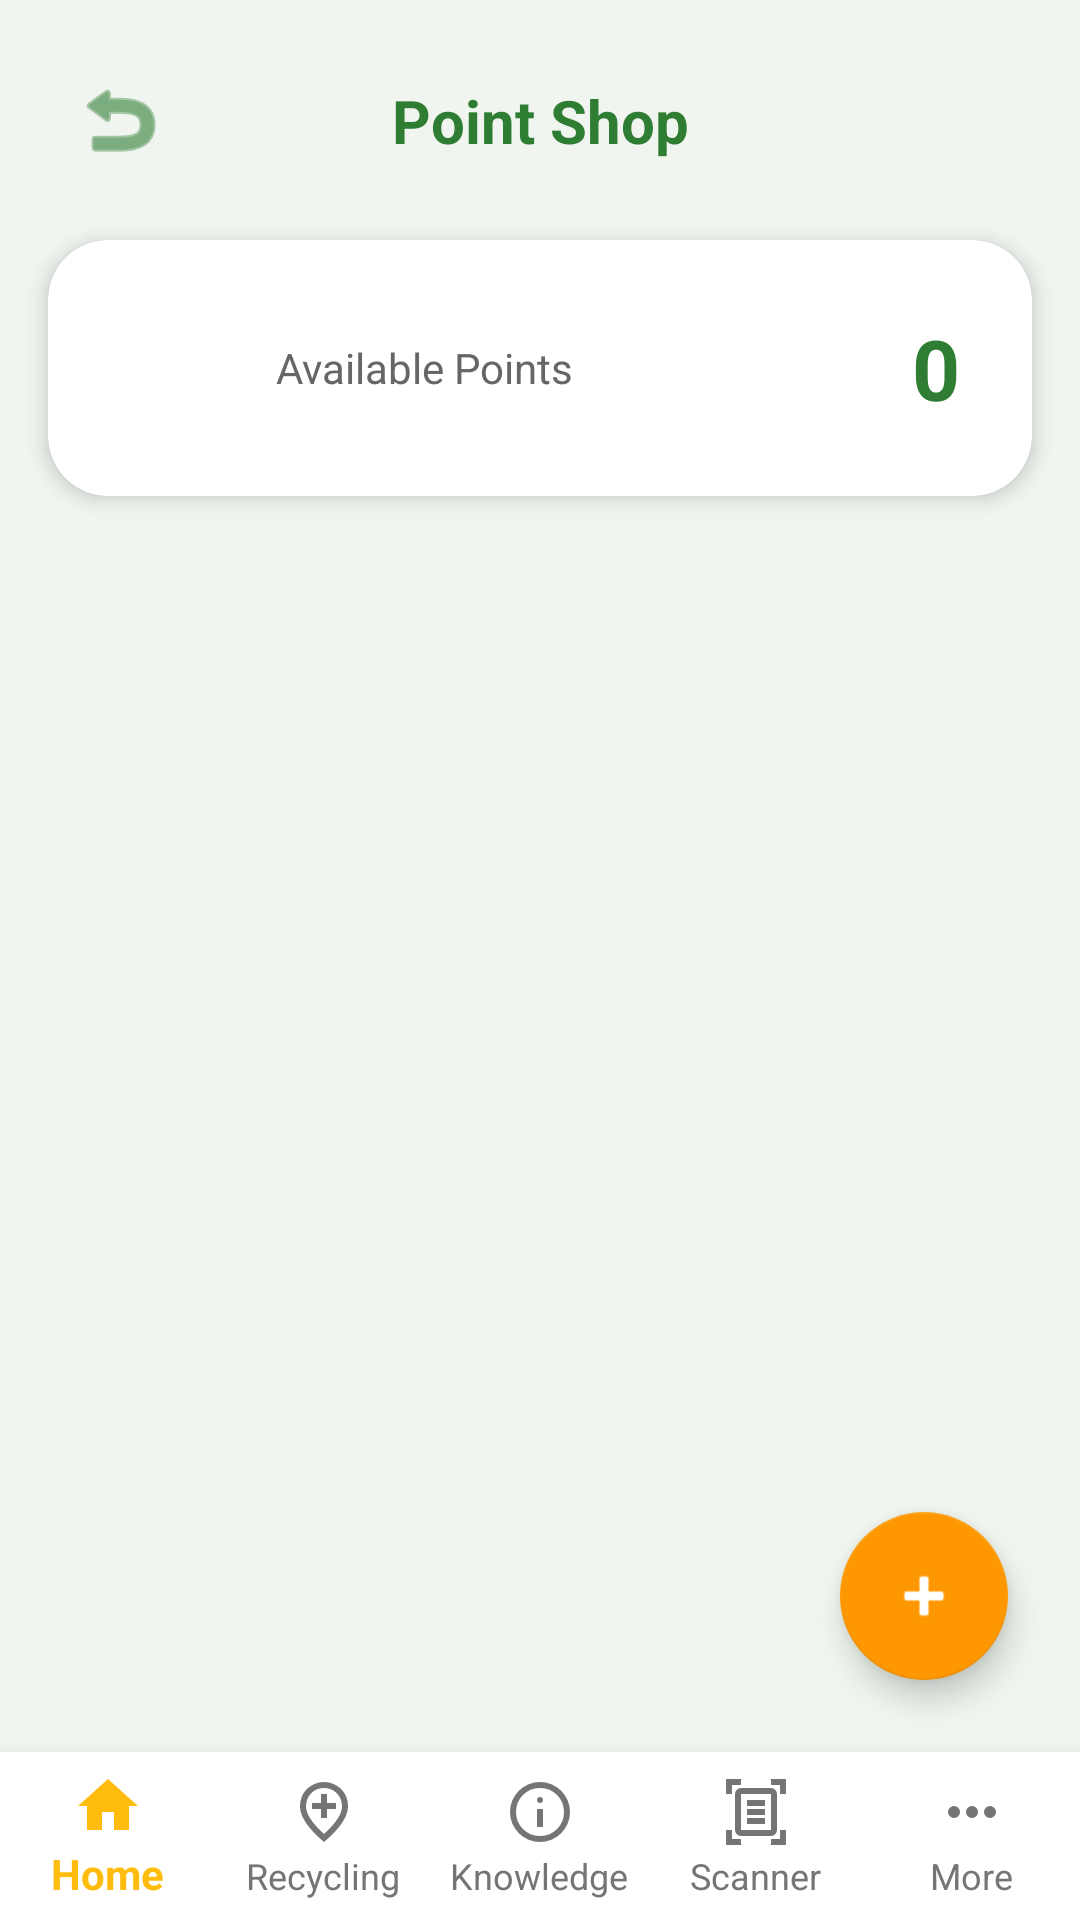

Named icons in this screenshot (1080px×1920px) and their centers, (x=x, y=y):
revert: (x=121, y=120)
Test Add Points: (x=924, y=1596)
